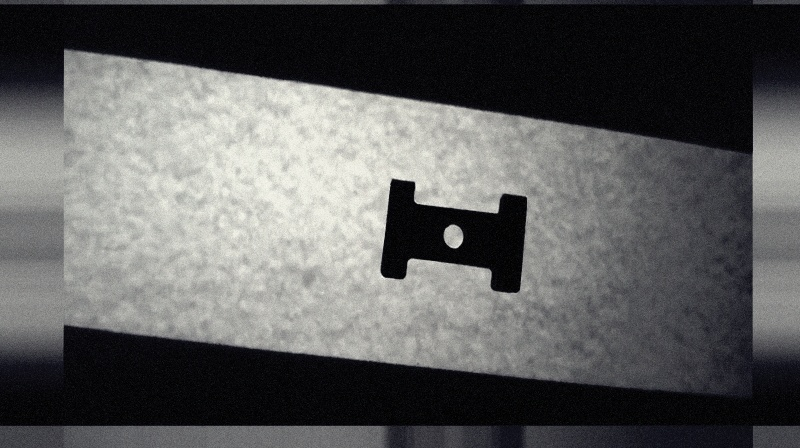O002: (376, 172, 531, 295)
